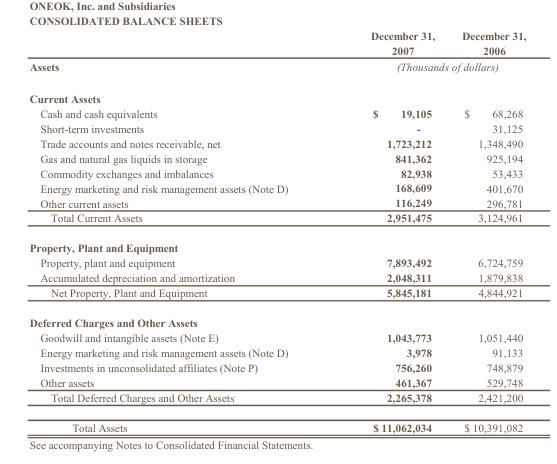table: (28, 28, 525, 433)
table column: (28, 28, 328, 433), (328, 28, 447, 433), (447, 28, 525, 433)
table column header: (28, 28, 525, 57)
table projected row header: (28, 81, 525, 105), (28, 232, 525, 255), (28, 307, 525, 329)
table row: (28, 28, 525, 57), (28, 57, 525, 81), (28, 81, 525, 105), (28, 232, 525, 255), (28, 389, 525, 412), (28, 210, 525, 232), (28, 285, 525, 307), (28, 307, 525, 329), (28, 412, 525, 433), (28, 105, 525, 120), (28, 120, 525, 135), (28, 135, 525, 150), (28, 150, 525, 165), (28, 165, 525, 180), (28, 180, 525, 195), (28, 195, 525, 210), (28, 255, 525, 270), (28, 270, 525, 285), (28, 329, 525, 344), (28, 344, 525, 359), (28, 359, 525, 374), (28, 374, 525, 389)
table spanning cell: (328, 57, 525, 81)
